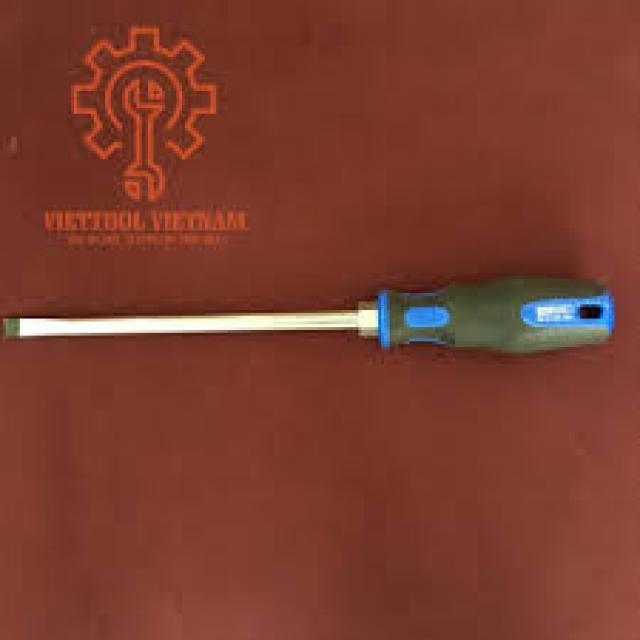screwdriver: (0, 274, 620, 354)
